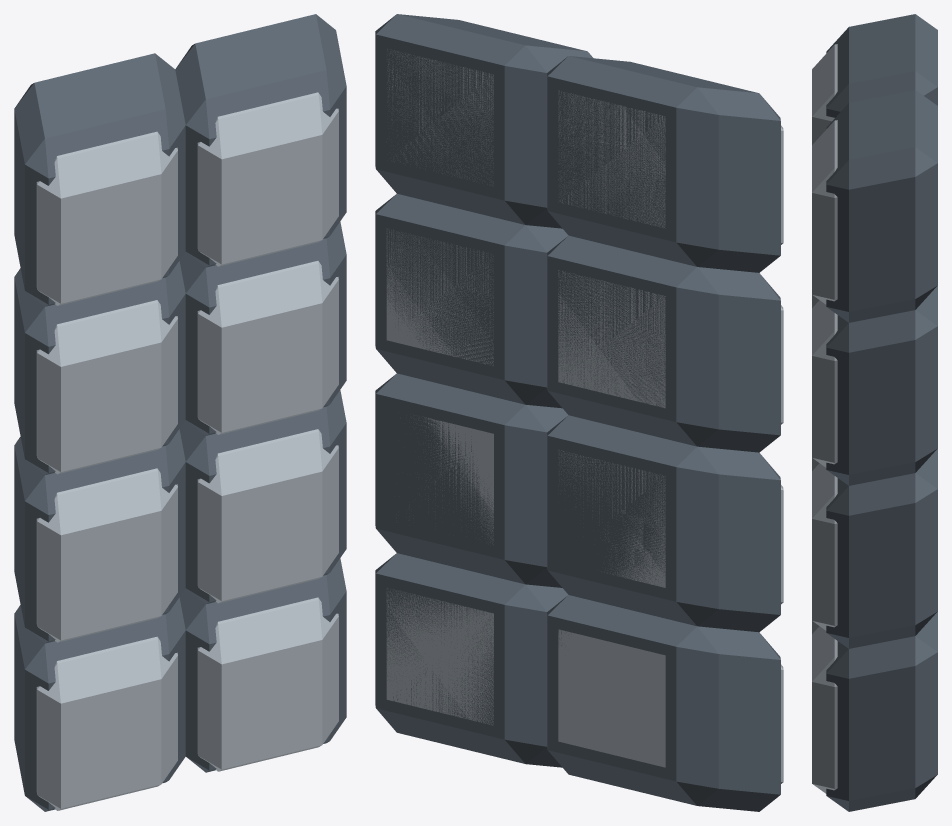
File: Terrain_Block2x4.gltf
3 views of the same model, side by side, from view 1: azimuth 30°, elevation 25°; view 2: azimuth 150°, elevation 25°; view 3: azimuth 270°, elevation 25° (orthographic). The views are drawn at different scales.
Visible parts, largest first — view 1: Terrain_Block2x4_baked; view 2: Terrain_Block2x4_baked; view 3: Terrain_Block2x4_baked.
Boxes of the visible parts, x1,y1,x2,y2 form: Terrain_Block2x4_baked: [14, 14, 346, 811]; Terrain_Block2x4_baked: [375, 14, 783, 811]; Terrain_Block2x4_baked: [812, 14, 937, 811].
Size of the model in its own units: 2.15 by 4.15 by 0.7.
